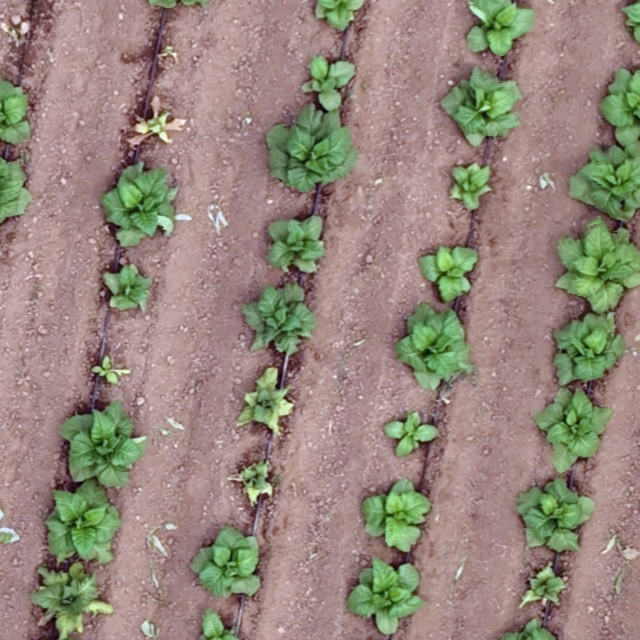disease_tobacco: (129, 105, 179, 146), (88, 355, 128, 388)
grow_tobacco: (262, 104, 358, 196), (56, 399, 144, 491), (553, 219, 640, 312), (393, 301, 473, 391), (440, 64, 522, 149), (41, 480, 121, 567), (100, 160, 178, 249), (516, 474, 594, 559), (345, 555, 424, 636), (535, 386, 610, 471), (30, 560, 110, 637), (190, 522, 264, 603), (359, 476, 433, 556), (550, 310, 624, 389), (570, 140, 639, 224), (242, 280, 317, 357), (262, 205, 327, 277), (460, 0, 535, 61), (416, 238, 479, 304), (236, 368, 294, 435), (598, 62, 640, 146), (301, 50, 356, 112), (100, 259, 154, 316), (383, 409, 442, 459), (446, 157, 496, 213), (0, 149, 31, 233), (0, 76, 34, 151), (518, 561, 569, 611), (233, 457, 279, 503), (307, 0, 368, 32), (183, 611, 249, 639), (498, 618, 565, 640), (87, 354, 126, 388), (621, 0, 640, 50), (142, 0, 220, 11)
